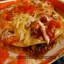pizza: (1, 1, 61, 64)
